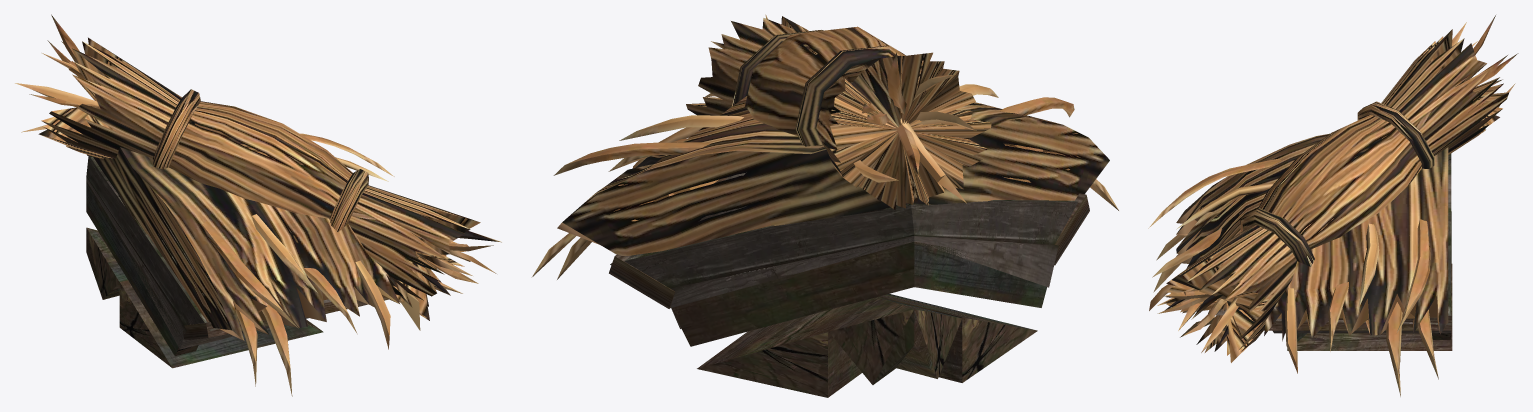
The picture shows the model from 3 angles, left to right: view 1: azimuth 30°, elevation 25°; view 2: azimuth 150°, elevation 25°; view 3: azimuth 270°, elevation 25°; orthographic projection. The views are drawn at different scales.
Visible parts, largest first — view 1: SM_BB_T1_Extended_Roof_Small_Shallow_Hip_LOD0; view 2: SM_BB_T1_Extended_Roof_Small_Shallow_Hip_LOD0; view 3: SM_BB_T1_Extended_Roof_Small_Shallow_Hip_LOD0.
Part boxes in pixels (x1=…): SM_BB_T1_Extended_Roof_Small_Shallow_Hip_LOD0: x1=15, y1=14, x2=501, y2=396; SM_BB_T1_Extended_Roof_Small_Shallow_Hip_LOD0: x1=531, y1=14, x2=1118, y2=397; SM_BB_T1_Extended_Roof_Small_Shallow_Hip_LOD0: x1=1148, y1=15, x2=1518, y2=396.
Bounding box in the file's own units: 1.71 × 1.34 × 1.72.
3 materials, 3 textured.
